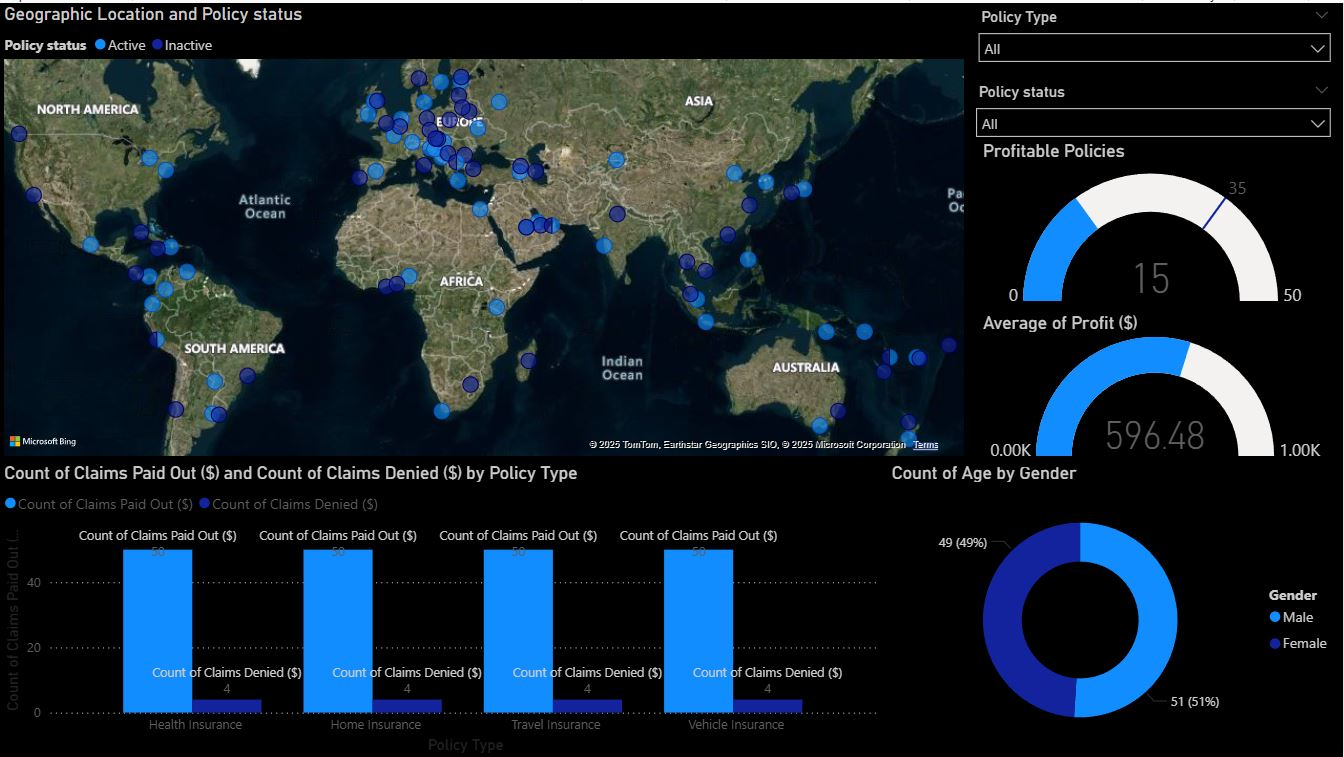

What the dashboard file says about the page in this screenshot:
{"tool":"powerbi","page":{"name":"Page 3","canvas":[1280,720],"ordinal":2},"visuals":[{"type":"slicer","fields":{"Values":["Assured amount by policy.Policy Type"]},"box":[922.9,0,355.9,211.1],"z":0},{"type":"actionButton","box":[0,0,100,40],"z":1000},{"type":"donutChart","fields":{"Y":["CountNonNull(Assured amount by policy.Age)"],"Category":["Assured amount by policy.Gender"]},"box":[844.7,437,435.3,282.6],"z":2000},{"type":"clusteredColumnChart","fields":{"Y":["CountNonNull(Assured amount by policy.Claims Paid Out ($))","Count(Assured amount by policy.Claims Denied ($))"],"Category":["Assured amount by policy.Policy Type"]},"box":[0,437,844.7,282.6],"z":3000},{"type":"slicer","fields":{"Values":["Assured amount by policy.Policy status"]},"box":[920.2,71.4,358.3,67.9],"z":4000},{"type":"map","fields":{"Series":["Assured amount by policy.Policy status"],"Category":["Assured amount by policy.Geographic Location"]},"box":[0,0,924.3,437],"z":5000},{"type":"gauge","fields":{"Y":["Avg(Assured amount by policy.Profit ($))"]},"box":[932.1,294,338.1,147.6],"z":6000},{"type":"gauge","title":"Profitable Policies","fields":{"Y":["Count(Assured amount by policy.Profit Margin (%))"]},"box":[932.1,131,338.1,163.1],"z":7000}]}

Visuals, with their boxes in screenshot pixels (x1, y1, x2, y2), scaled from the page's 1280x720 canvas onto the 1344x757 screenshot:
slicer - Assured amount by policy.Policy Type: region(969, 0, 1343, 222)
actionButton: region(0, 0, 105, 42)
donutChart - CountNonNull(Assured amount by policy.Age) x Assured amount by policy.Gender: region(887, 459, 1343, 756)
clusteredColumnChart - CountNonNull(Assured amount by policy.Claims Paid Out ($)) x Count(Assured amount by policy.Claims Denied ($)): region(0, 459, 887, 756)
slicer - Assured amount by policy.Policy status: region(966, 75, 1342, 146)
map - Assured amount by policy.Policy status x Assured amount by policy.Geographic Location: region(0, 0, 971, 459)
gauge - Avg(Assured amount by policy.Profit ($)): region(979, 309, 1334, 464)
"Profitable Policies" gauge: region(979, 138, 1334, 309)
